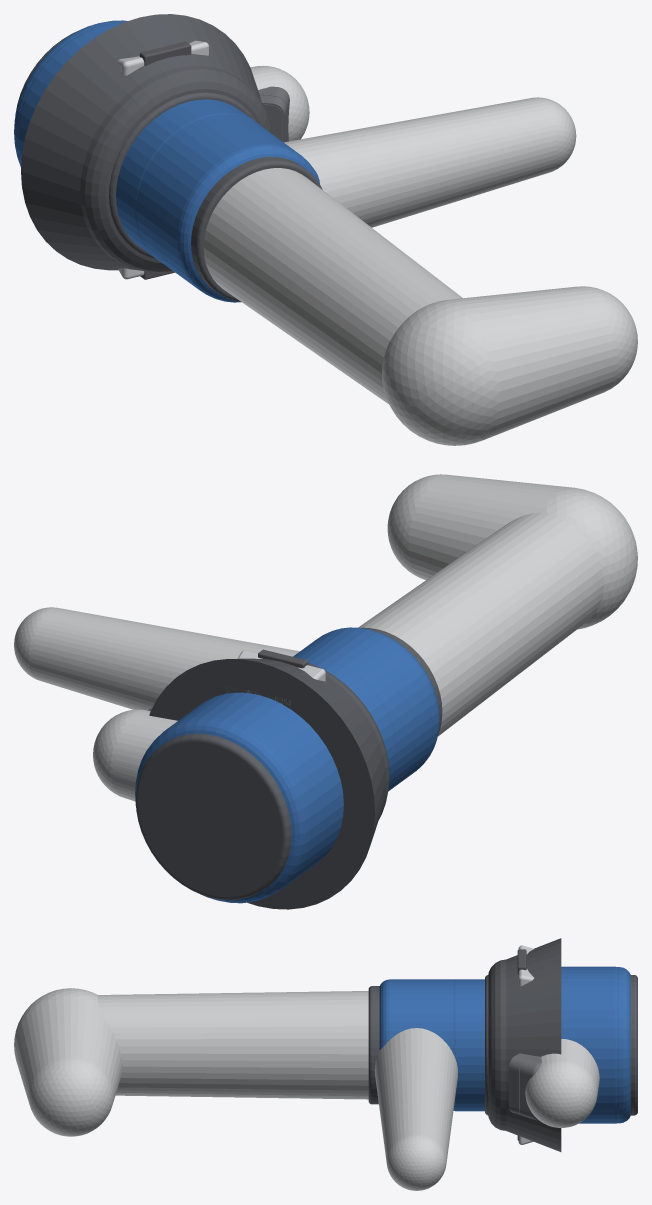
Rendered from arm.glb.
3 views of the same model, one above another, from view 1: azimuth 30°, elevation 25°; view 2: azimuth 150°, elevation 25°; view 3: azimuth 270°, elevation 25° (orthographic). The views are drawn at different scales.
Visible parts, largest first — view 1: b3, b5, b1, b4, b2, b10; view 2: b3, b4, b5, b1, b2, b10; view 3: b3, b5, b1, b4, b2, b10.
Part boxes in pixels (x1,y1,x2,y2): b3: (17, 22, 637, 445); b5: (136, 97, 576, 302); b1: (21, 14, 272, 272); b4: (14, 20, 309, 259); b2: (116, 99, 260, 260); b10: (118, 40, 289, 279); b3: (161, 474, 637, 891); b4: (93, 709, 308, 903); b5: (14, 607, 442, 791); b1: (149, 658, 389, 909); b2: (301, 658, 397, 784); b10: (148, 649, 325, 710); b3: (14, 966, 631, 1136); b5: (368, 979, 457, 1190); b1: (488, 938, 561, 1151); b4: (485, 967, 637, 1127); b2: (453, 979, 484, 1111); b10: (508, 945, 541, 1144).
Size of the model in its own units: 0.2794 by 0.1458 by 0.424.
